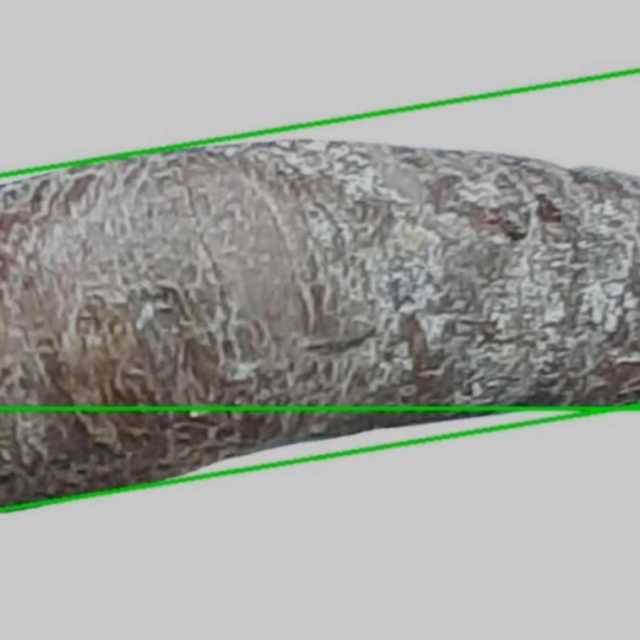Eczema: (0, 70, 639, 510), (0, 408, 639, 639)
